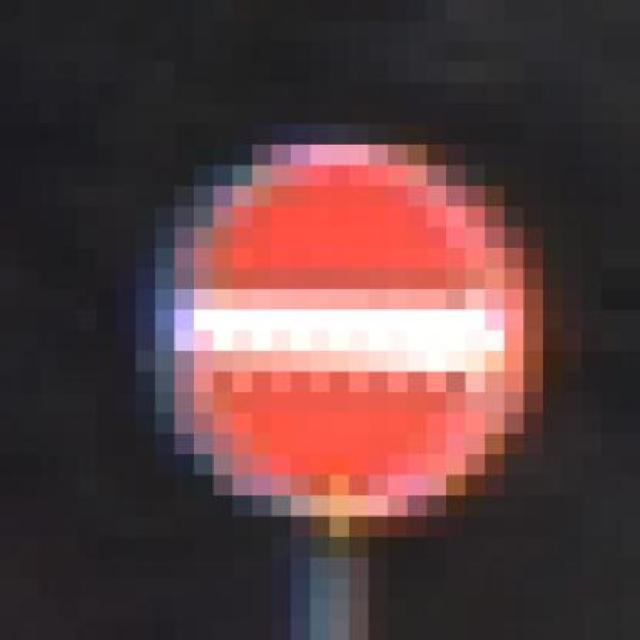No Entry: (97, 124, 601, 558)
